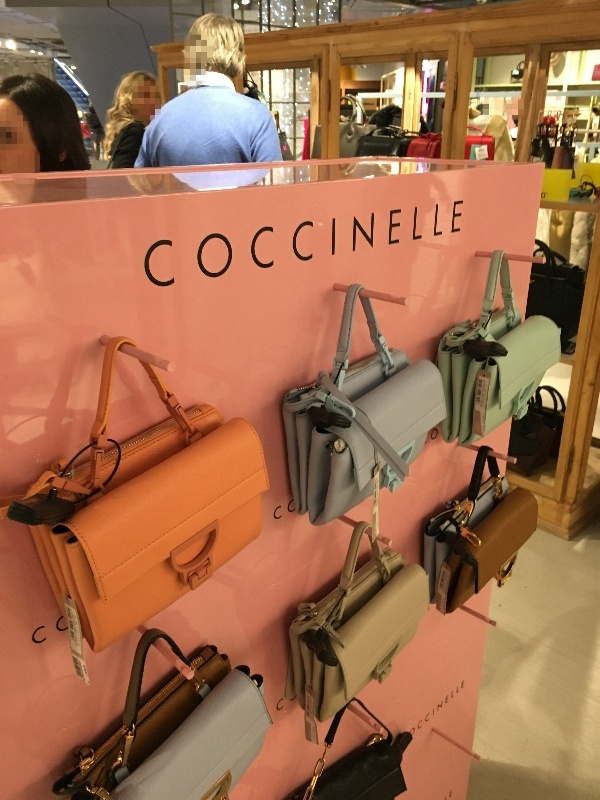text: (449, 199, 465, 292), (145, 199, 160, 292), (161, 199, 176, 292), (177, 199, 192, 292), (193, 199, 208, 292), (209, 199, 224, 292), (225, 199, 240, 292), (241, 199, 256, 292), (257, 199, 272, 292), (273, 199, 288, 292), (289, 199, 304, 292), (305, 199, 320, 292), (321, 199, 336, 292), (337, 199, 352, 292), (353, 199, 368, 292), (369, 199, 384, 292), (385, 199, 400, 292), (401, 199, 416, 292), (417, 199, 432, 292), (433, 199, 448, 292), (417, 680, 432, 738), (433, 680, 448, 738), (449, 680, 464, 738), (410, 680, 416, 738), (33, 623, 47, 646), (273, 504, 288, 522), (276, 696, 288, 714), (56, 615, 64, 634), (289, 499, 295, 514), (433, 426, 438, 441), (65, 615, 68, 634), (431, 426, 432, 441), (542, 192, 544, 199), (545, 192, 547, 199)
